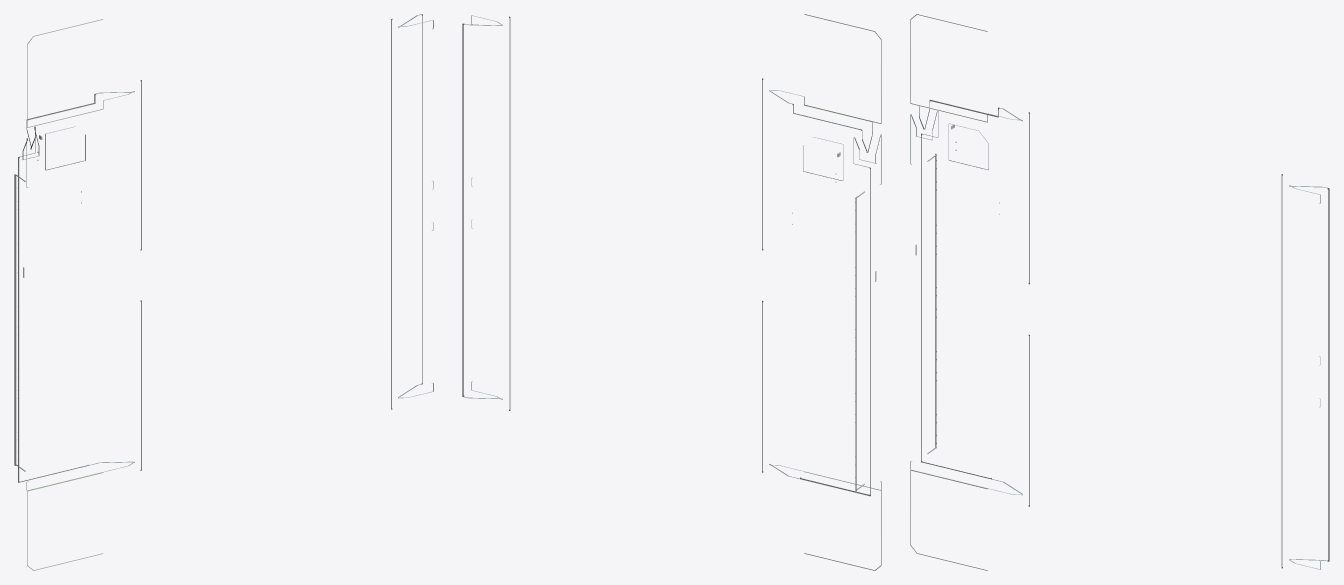
Rendered from SM_000211_merge_article01.fbx.
3 views of the same model, side by side, from view 1: azimuth 30°, elevation 25°; view 2: azimuth 150°, elevation 25°; view 3: azimuth 330°, elevation 25° (orthographic).
Visible parts, largest first — view 1: SM_000211.001; view 2: SM_000211.001; view 3: SM_000211.001.
Part boxes in pixels (x1,y1,x2,y2): SM_000211.001: [14, 14, 433, 570]; SM_000211.001: [462, 14, 881, 570]; SM_000211.001: [910, 14, 1329, 570].
Size of the model in its own units: 64 by 80.5 by 6.15.
